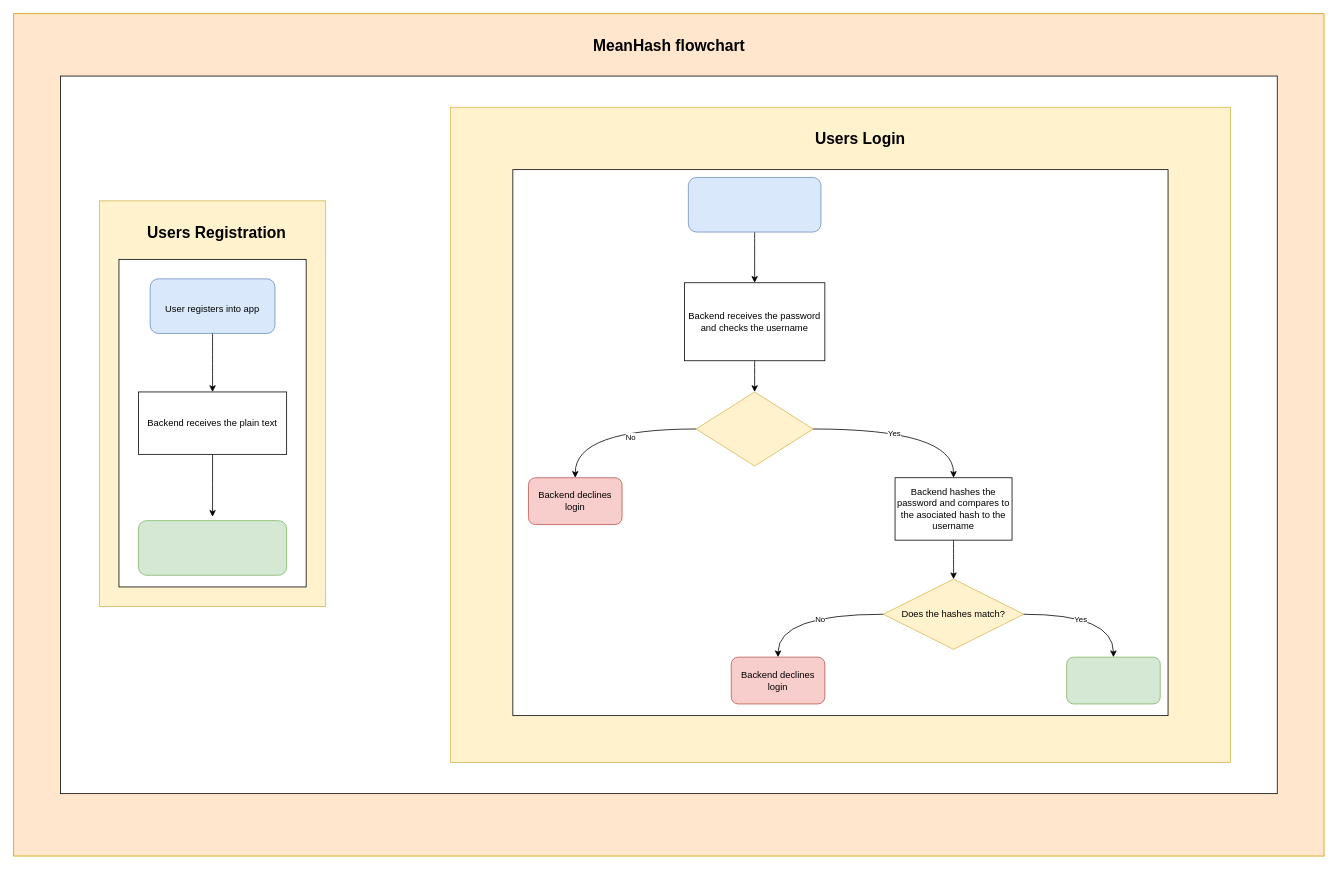
Some shapes in this 1338 by 870 pixel diagram are drawn without their labels. The centre of each missing label's shape, as x and y in pixels:
"Backend allows login" belongs at (1113,680).
"Backend saves the user and stores the hashed password with MeanHash" belongs at (212,547).
"Is the user registered?" belongs at (754,428).
"User tries to login" belongs at (754,204).
